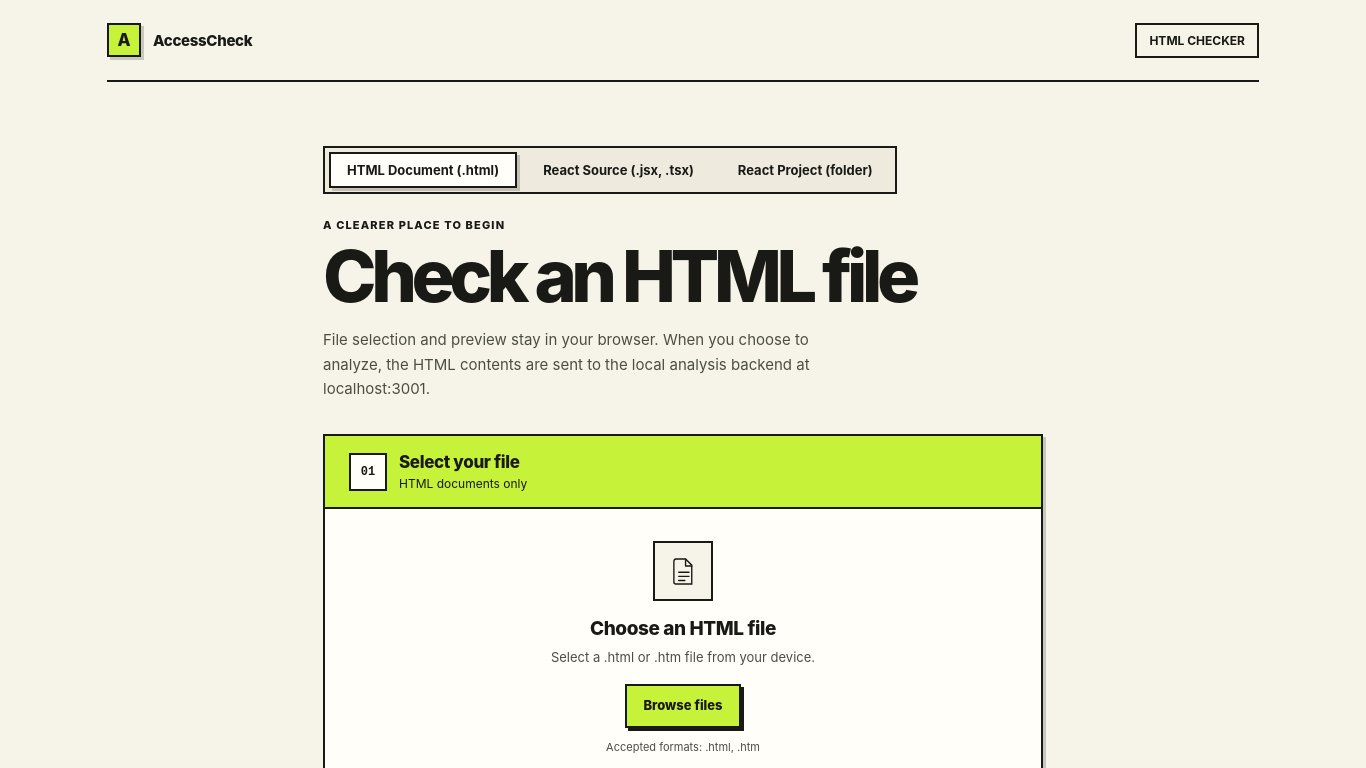
Test: App Component - Project Folder Selection › shows project folder picker
Click the tab "React Project (folder)".
click(805, 170)  # box [720,152,891,188]
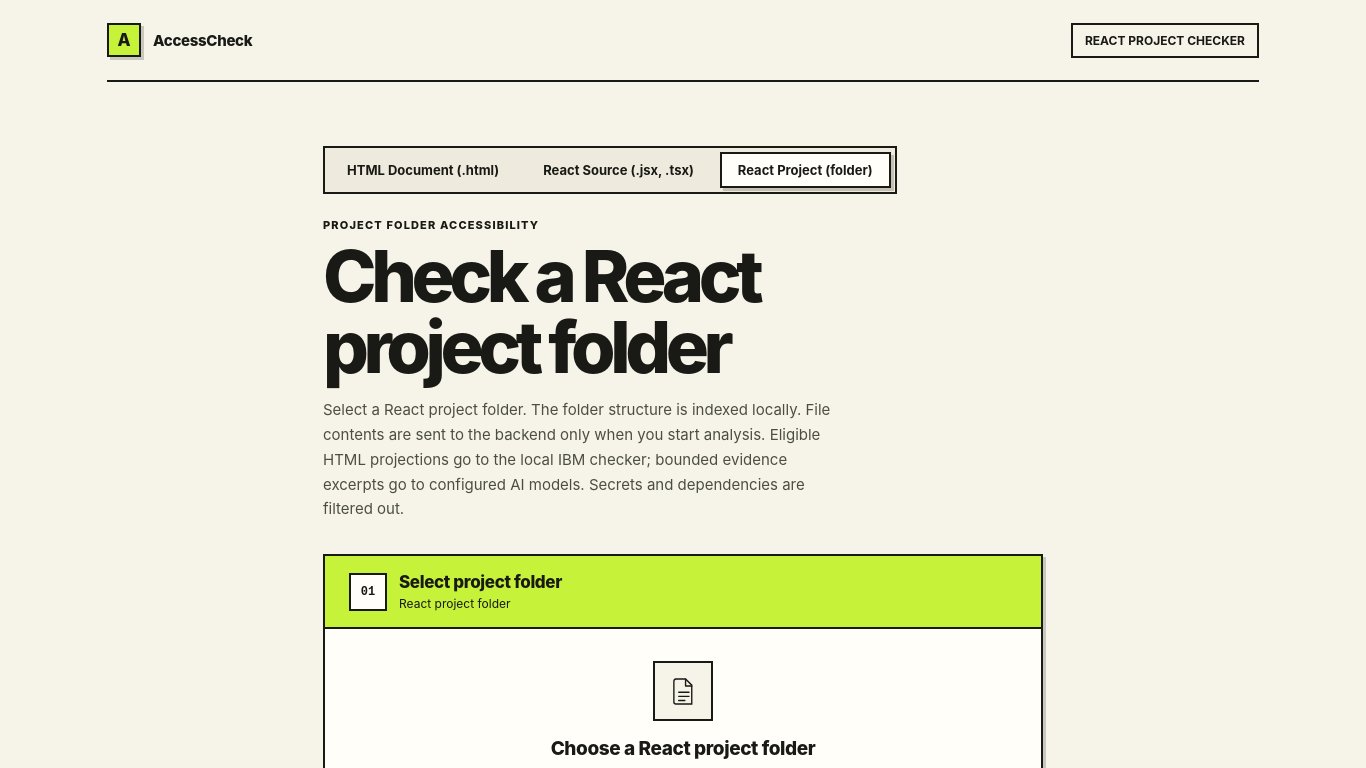
expect the heading "Choose a React project folder" is shown: met, box [551,737,815,760]
